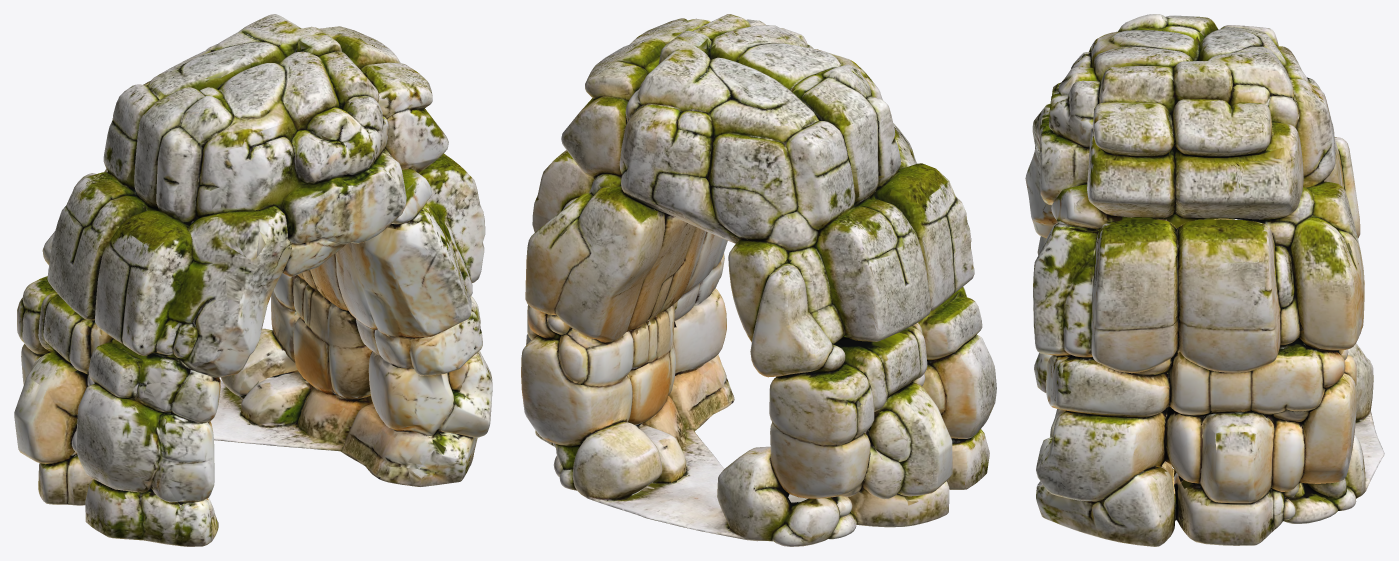
The model's file is cave.glb.
3 renders of one model, left to right at view 1: azimuth 30°, elevation 25°; view 2: azimuth 150°, elevation 25°; view 3: azimuth 270°, elevation 25°, orthographic. The views are drawn at different scales.
Visible parts, largest first — view 1: mesh; view 2: mesh; view 3: mesh.
Boxes of the visible parts, <box> form: mesh: <box>14,14,492,546</box>; mesh: <box>521,14,996,546</box>; mesh: <box>1025,14,1384,546</box>.
Size of the model in its own units: 2 by 1.87 by 1.45.
1 material, 1 textured.
